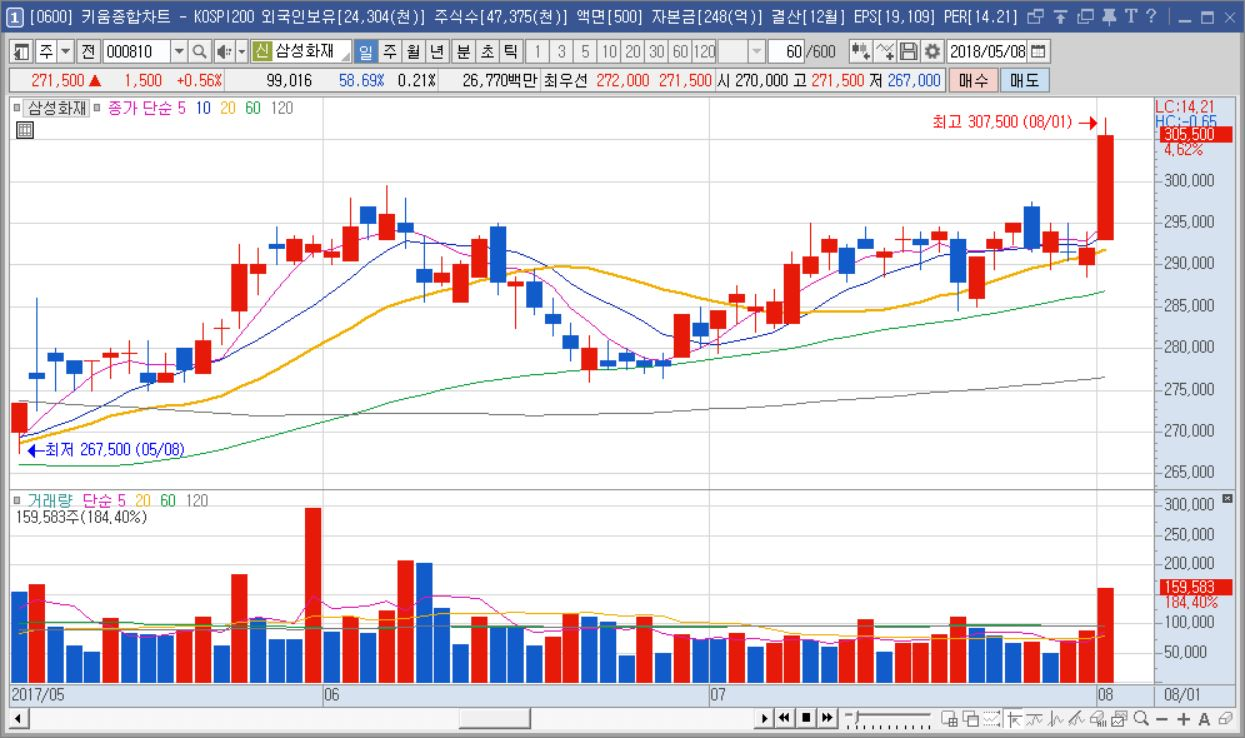up: (582, 110, 1115, 681)
